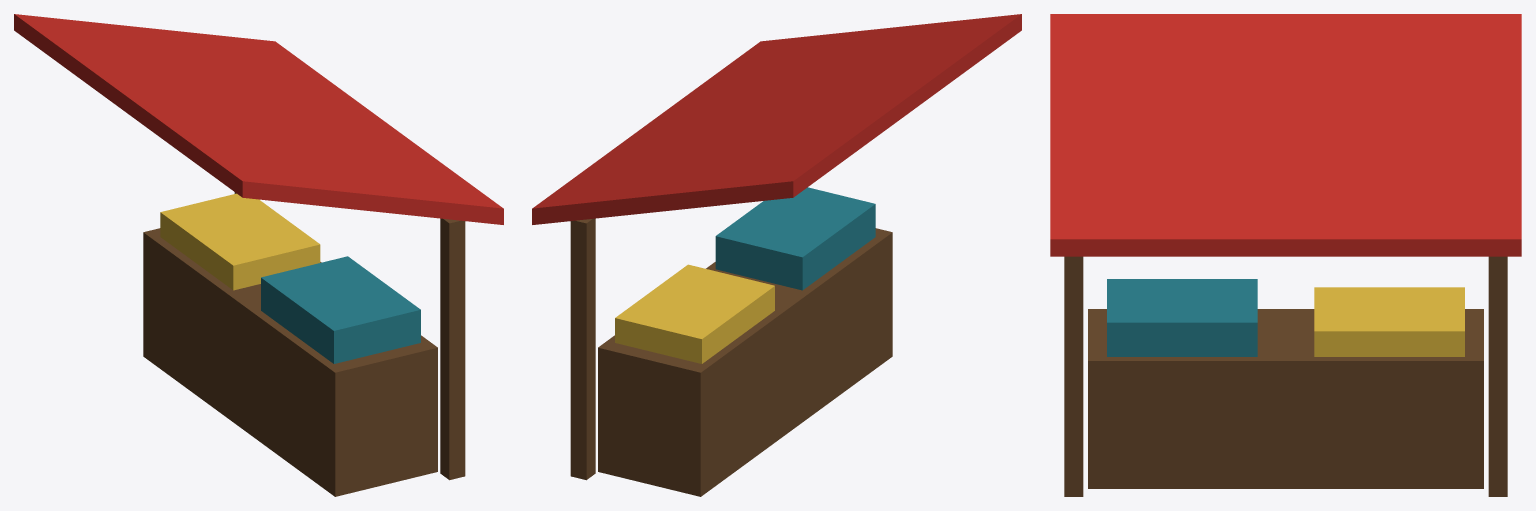
The model's file is awning.glb.
3 renders of one model, left to right at view 1: azimuth 30°, elevation 25°; view 2: azimuth 150°, elevation 25°; view 3: azimuth 270°, elevation 25°, orthographic. The views are drawn at different scales.
Parts seen in each view (by area): view 1: awning; view 2: awning; view 3: awning.
Boxes of the visible parts, x1,y1,x2,y2 form: awning: (14, 14, 503, 496); awning: (532, 14, 1021, 496); awning: (1050, 14, 1521, 496).
Size of the model in its own units: 0.66 by 0.86 by 1.
